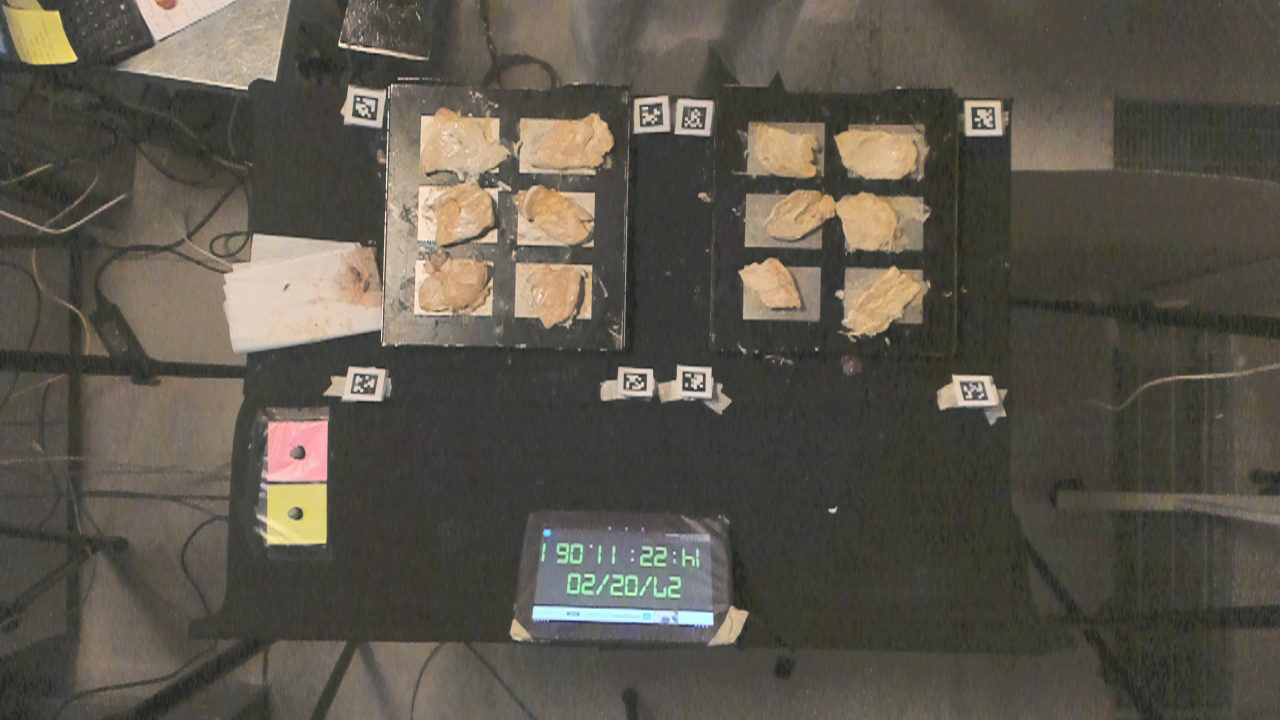chicken: (420, 102, 505, 176), (513, 184, 605, 246), (417, 248, 494, 318), (846, 263, 920, 335), (834, 121, 927, 178), (734, 248, 806, 316), (532, 115, 618, 171), (524, 262, 594, 327), (429, 180, 494, 249), (761, 183, 837, 238), (755, 119, 821, 177), (837, 190, 898, 252)
marker: (266, 421, 330, 483)
